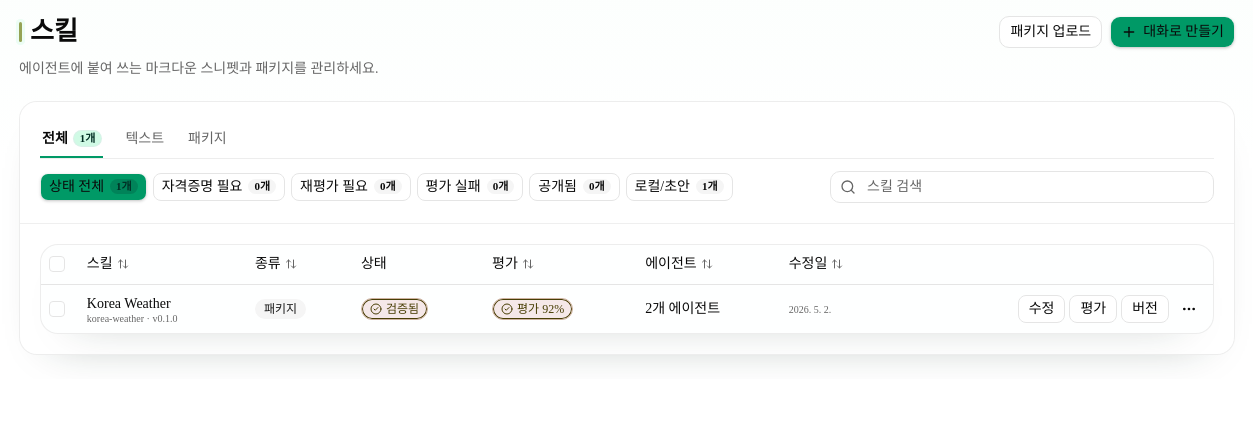
Scenario: SkillsPage › '선택 해제'가 controlled 선택(rowSelection+selected)을 함께 리셋한다
Click the checkbox named "행 선택". click: click(57, 309)
box: [49, 301, 65, 317]
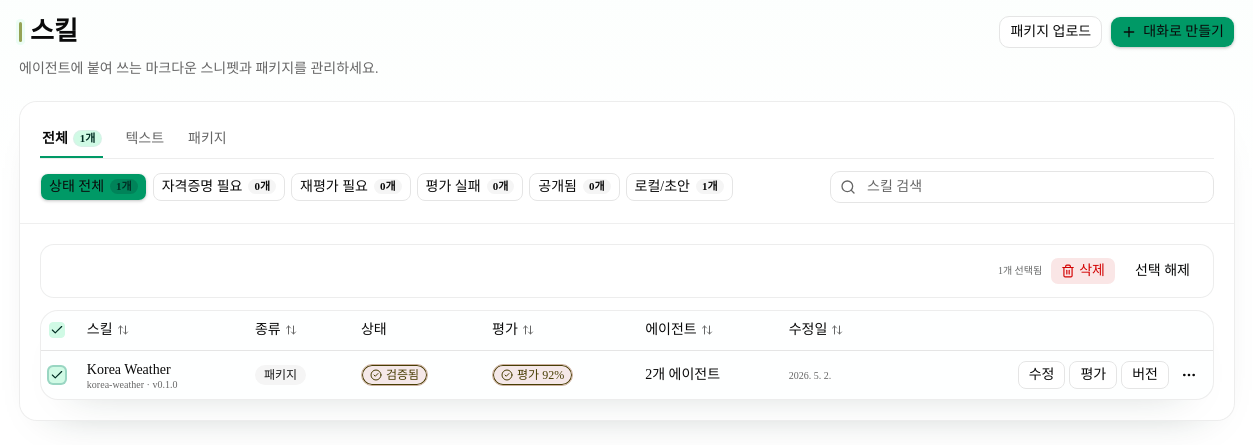
Expected: the element with test id "skill-bulk-bar" shows "1개 선택됨", [998, 264, 1042, 276]
Click the button "선택 해제". click: click(1162, 270)
box: [1124, 256, 1201, 284]
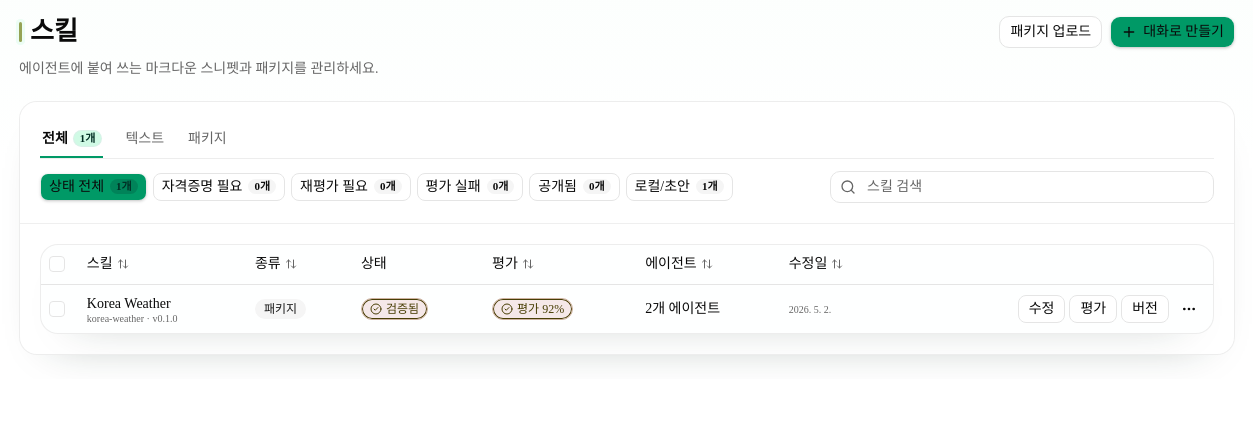
Expected: the checkbox named "행 선택" is not checked, [49, 301, 65, 317]
Expected: the element with test id "skill-bulk-bar" is gone
